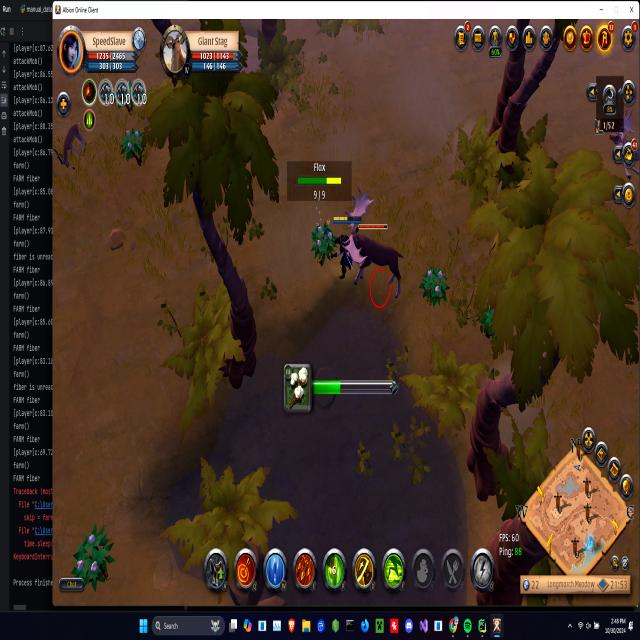hide: (72, 522, 115, 593), (421, 259, 448, 310), (310, 218, 336, 269), (120, 124, 146, 165), (478, 300, 498, 341)
ore: (349, 221, 405, 300), (54, 119, 89, 176)
red: (331, 212, 360, 280)
